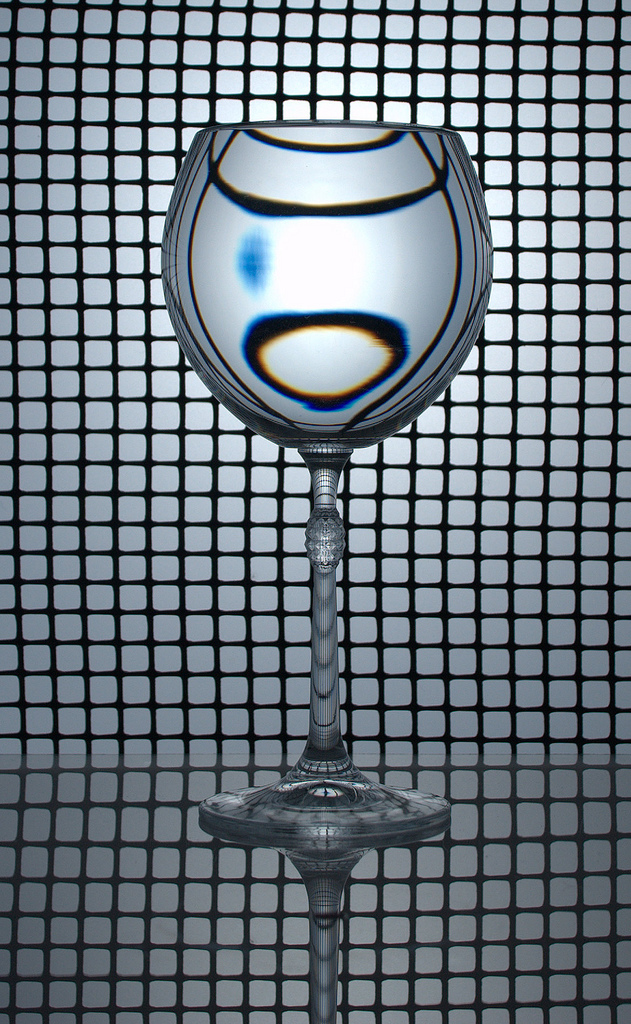glass of water: (172, 115, 442, 849)
